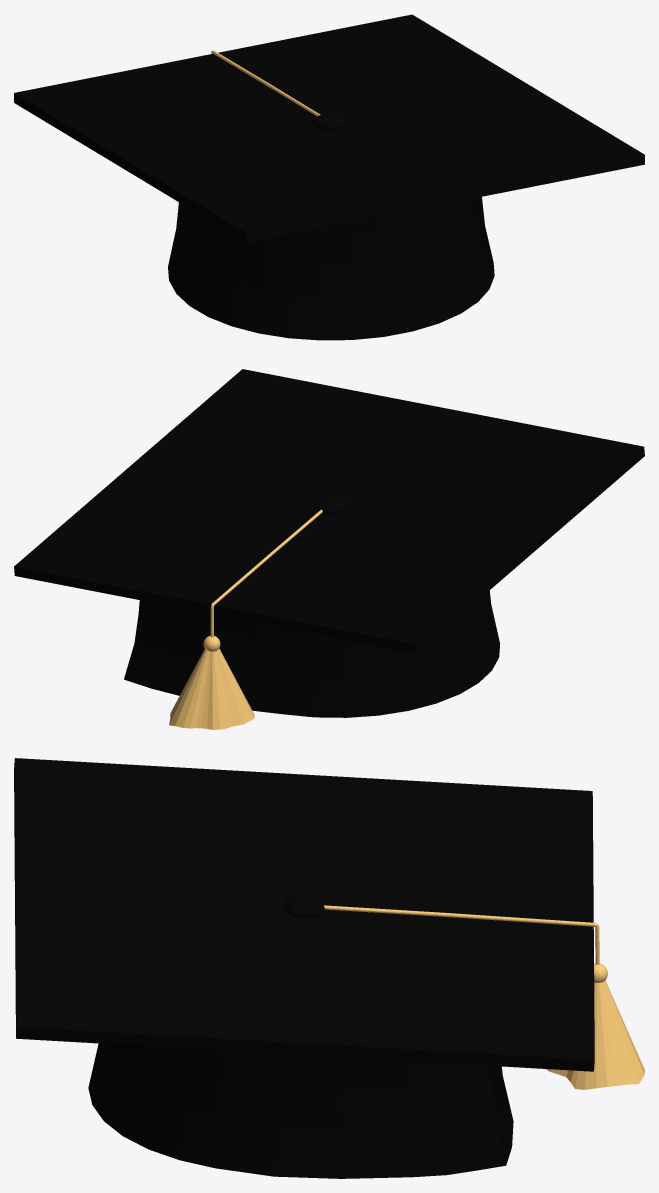
Rendered from czapka-absolwenta-pionek.glb.
The picture shows the model from 3 angles, top to bottom: view 1: azimuth 30°, elevation 25°; view 2: azimuth 150°, elevation 25°; view 3: azimuth 270°, elevation 25°; orthographic projection. The views are drawn at different scales.
Visible parts, largest first — view 1: Cylinder, Cylinder.001; view 2: Cylinder, Sphere, Cylinder.001; view 3: Cylinder, Sphere, Cylinder.001.
Boxes of the visible parts, x1,y1,x2,y2 form: Cylinder: (14, 14, 644, 340); Cylinder.001: (211, 50, 320, 116); Cylinder: (14, 369, 644, 717); Sphere: (169, 635, 254, 729); Cylinder.001: (210, 509, 322, 637); Cylinder: (14, 758, 594, 1178); Sphere: (546, 963, 644, 1089); Cylinder.001: (324, 905, 599, 964).
Bounding box in the file's own units: 3.08 × 1.24 × 3.33.
